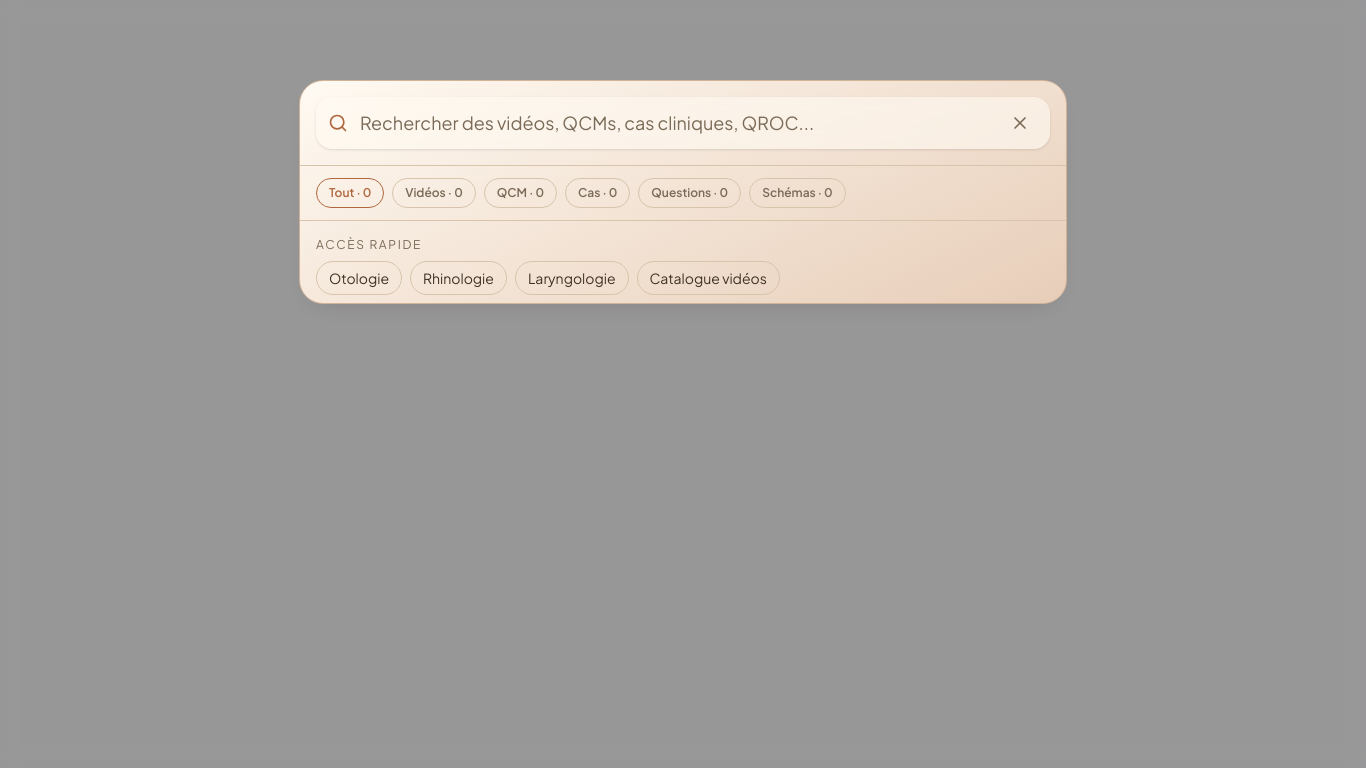
Test: SearchModal › matches accent-insensitive queries
The width and height of the screenshot is (1366, 768).
Type "specialite" into the field with placeholder "Rechercher des vidéos, QCMs, cas cliniques, QROC...". click: (675, 123)
box: [360,109,990,137]
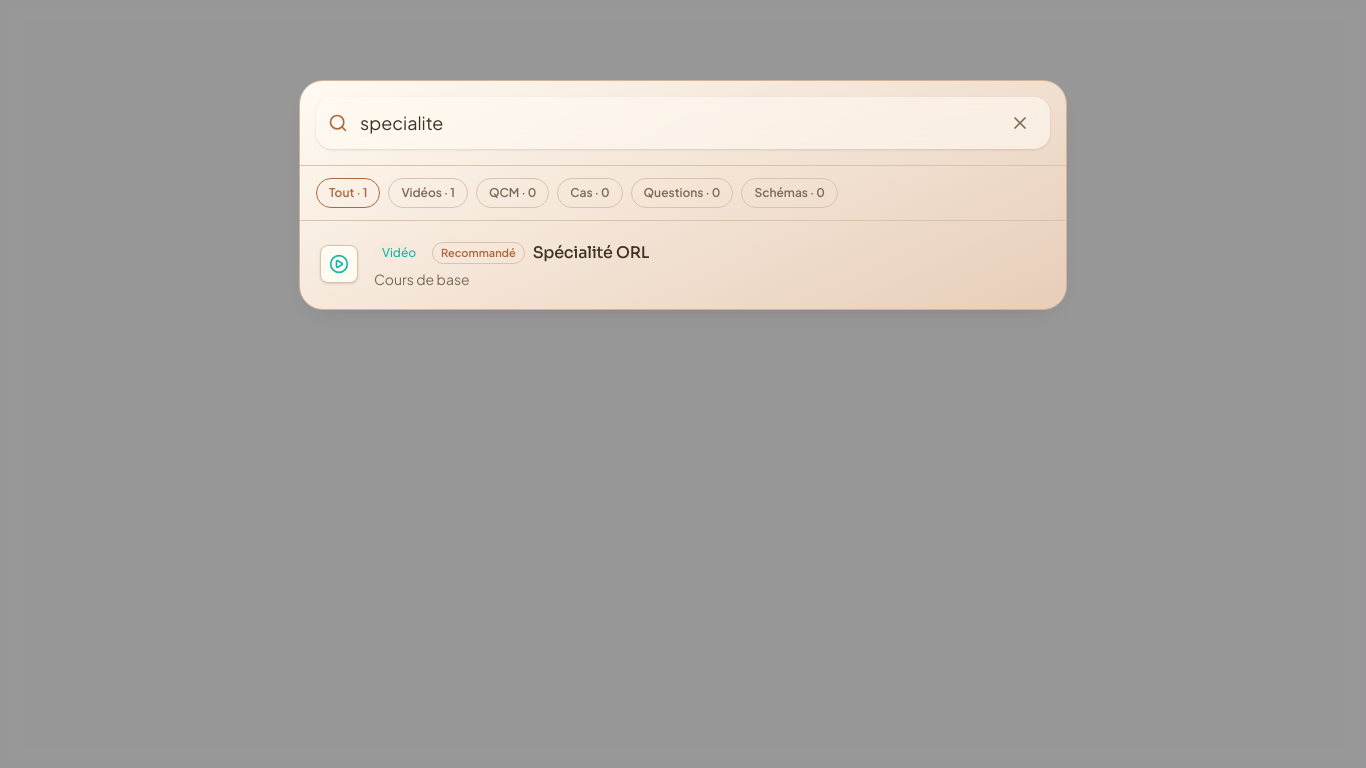
Now the heading "Spécialité ORL" is shown, box [533,241,649,265]
